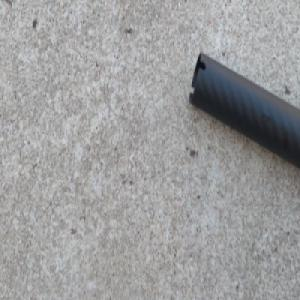LuggagePart: (188, 51, 300, 174)
